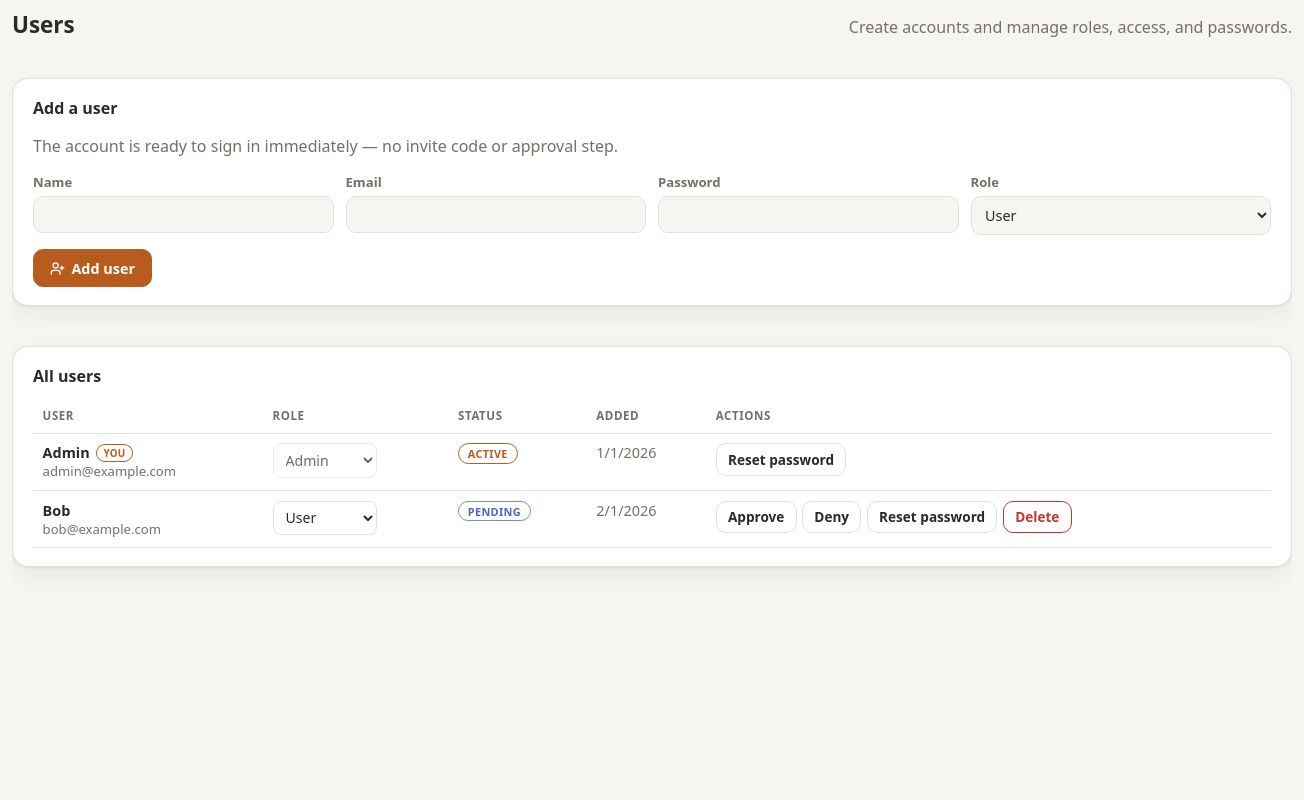
Test case: AdminPage › creates a user and confirms it in the list
The width and height of the screenshot is (1304, 800).
Check: the text "bob@example.com" is shown, box [43,520,161,538]
Type "Carol" into the field labelled "Name".
click(183, 215); type("Carol")  # box [33,196,334,233]
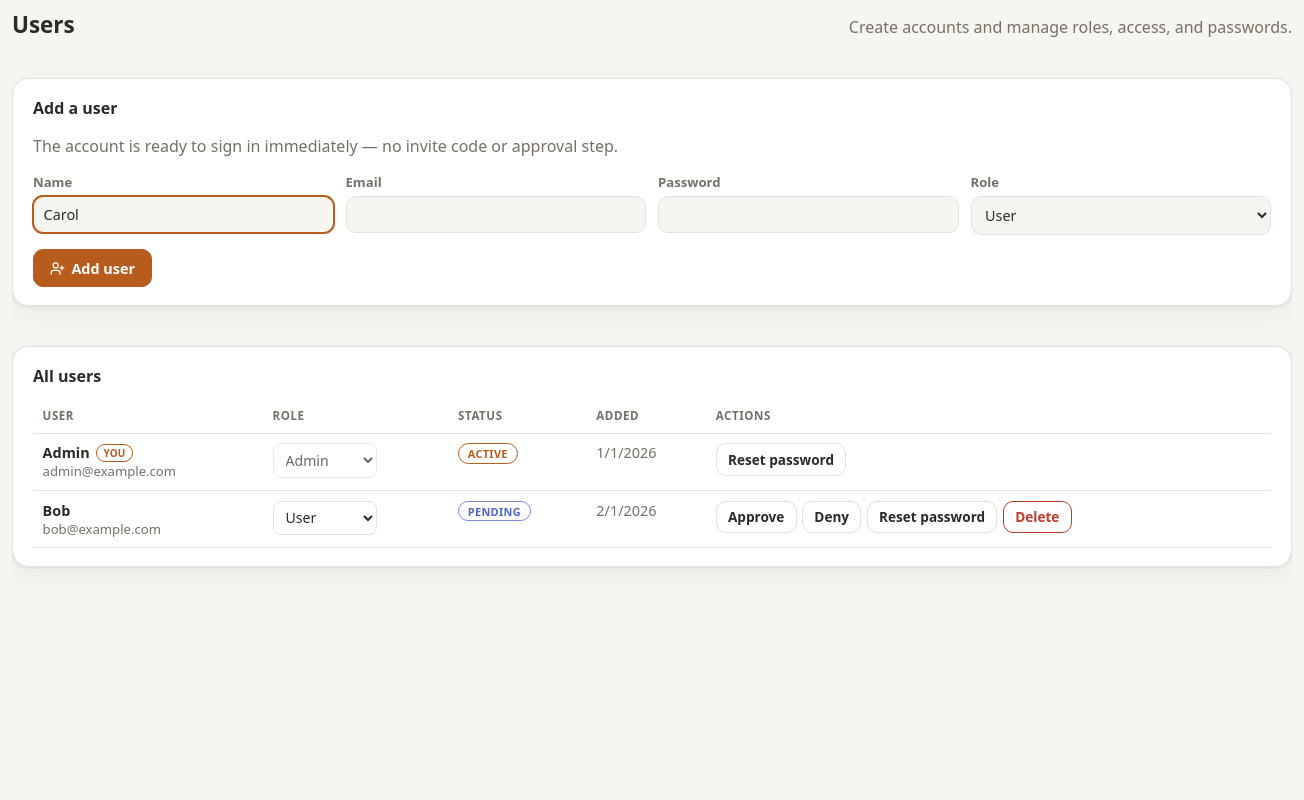
Type "carol@example.com" into the field labelled "Email".
click(496, 215); type("carol@example.com")  # box [346,196,646,233]
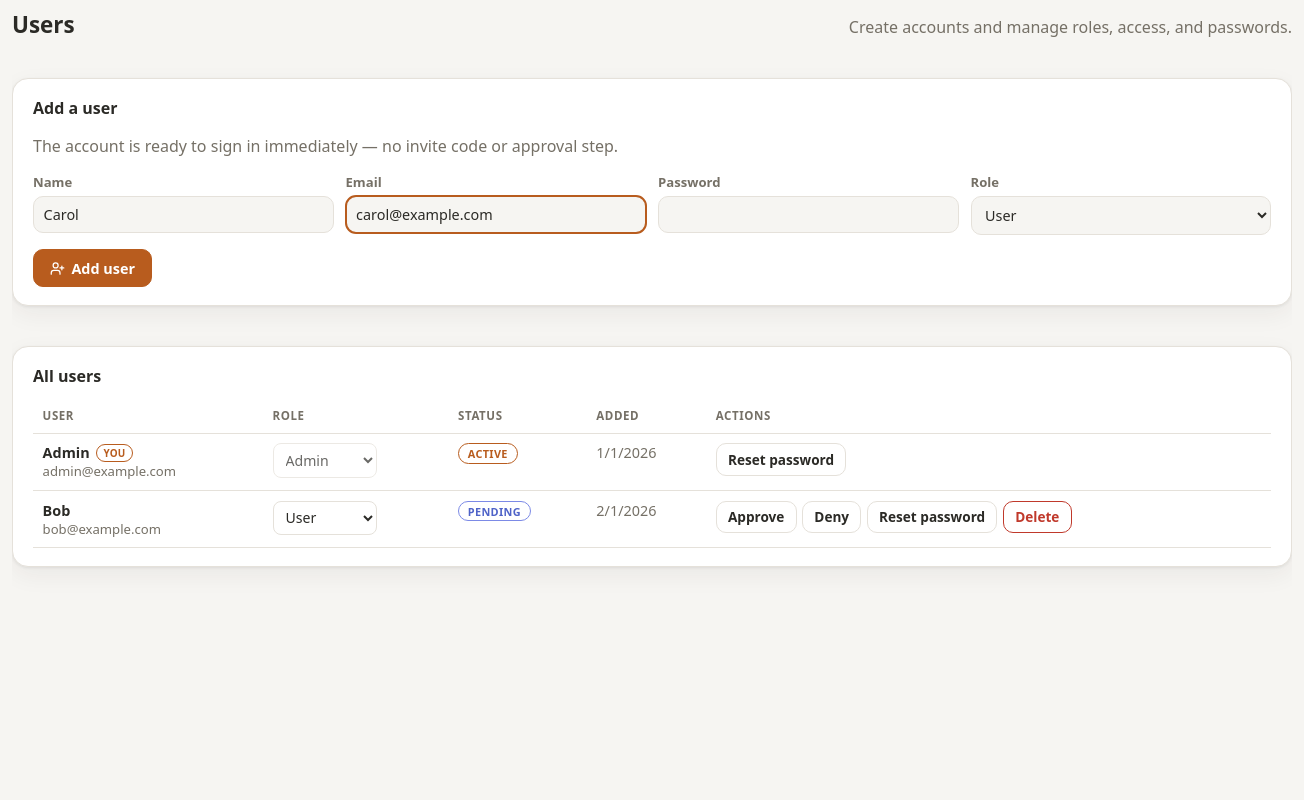
Type "password123" into the password field labelled "Password".
click(808, 215); type("password123")  # box [658,196,958,233]
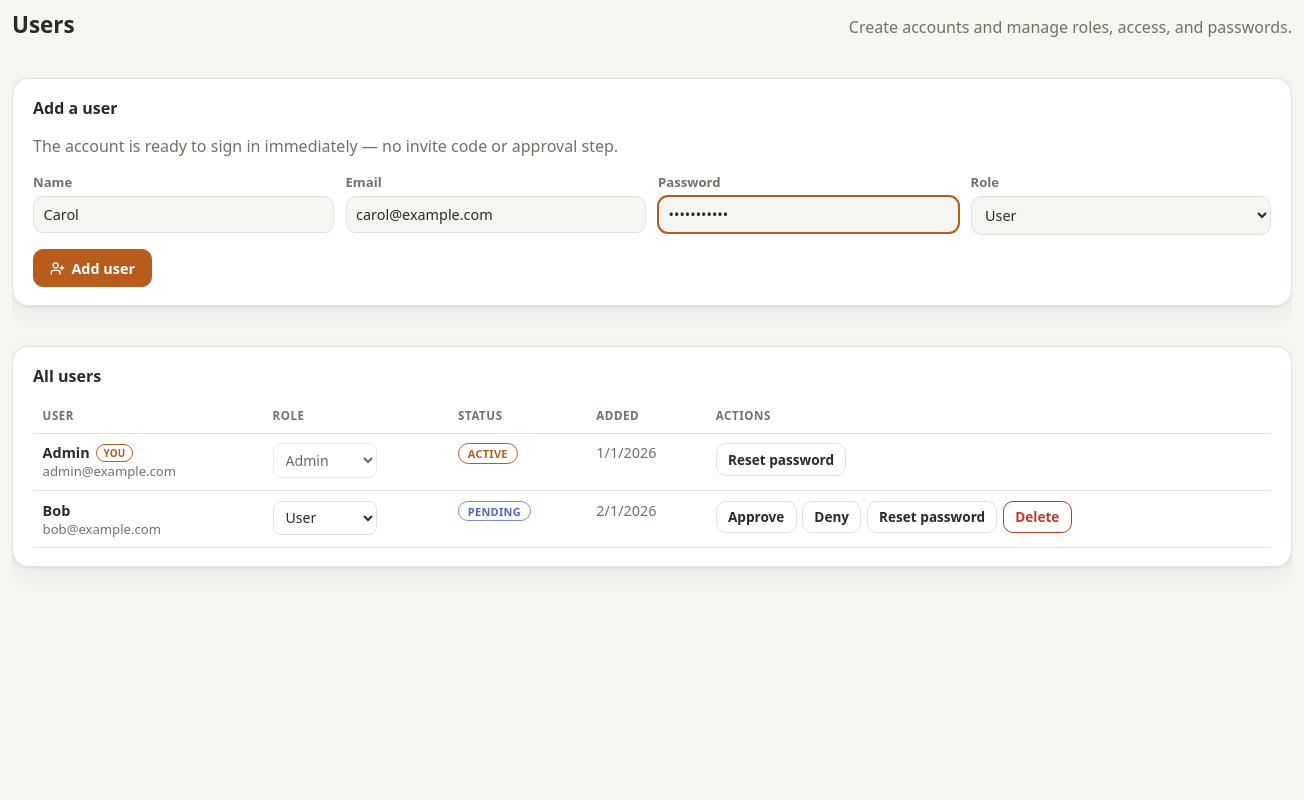
Click the button "Add user".
click(92, 268)  # box [33,249,152,287]
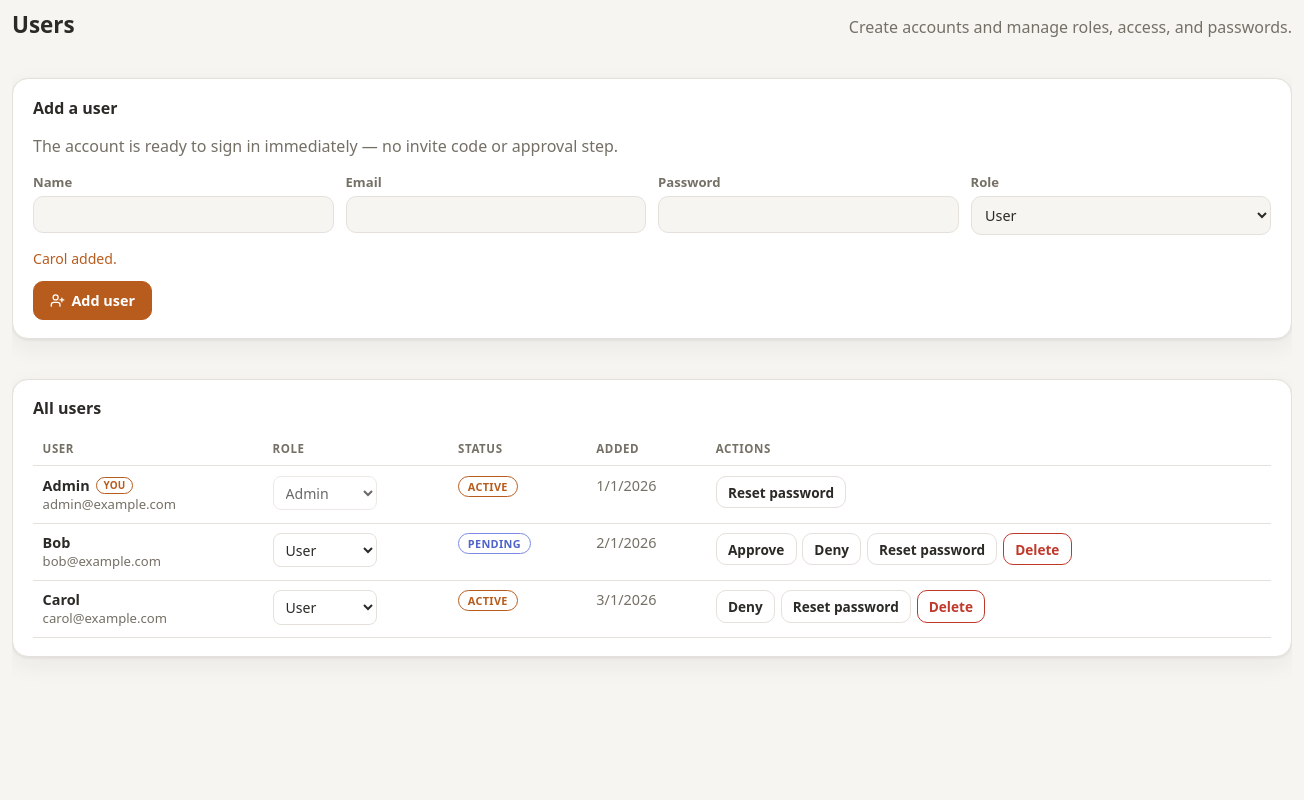
Check: the text "carol@example.com" is shown, box [43,609,167,627]
Check: the message reads "Carol added.", box [33,249,117,268]
